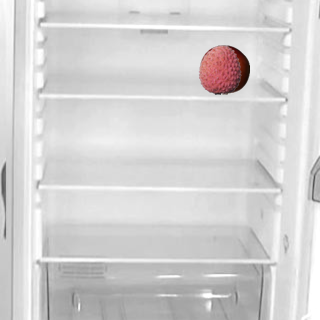Apple Braeburn: (199, 44, 249, 94)
Lychee: (194, 44, 244, 94)
